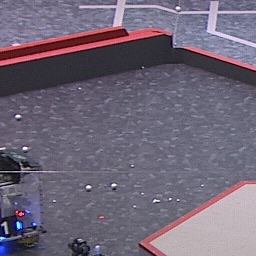Blue: (1, 217, 21, 236)
Robot: (1, 148, 47, 250)
